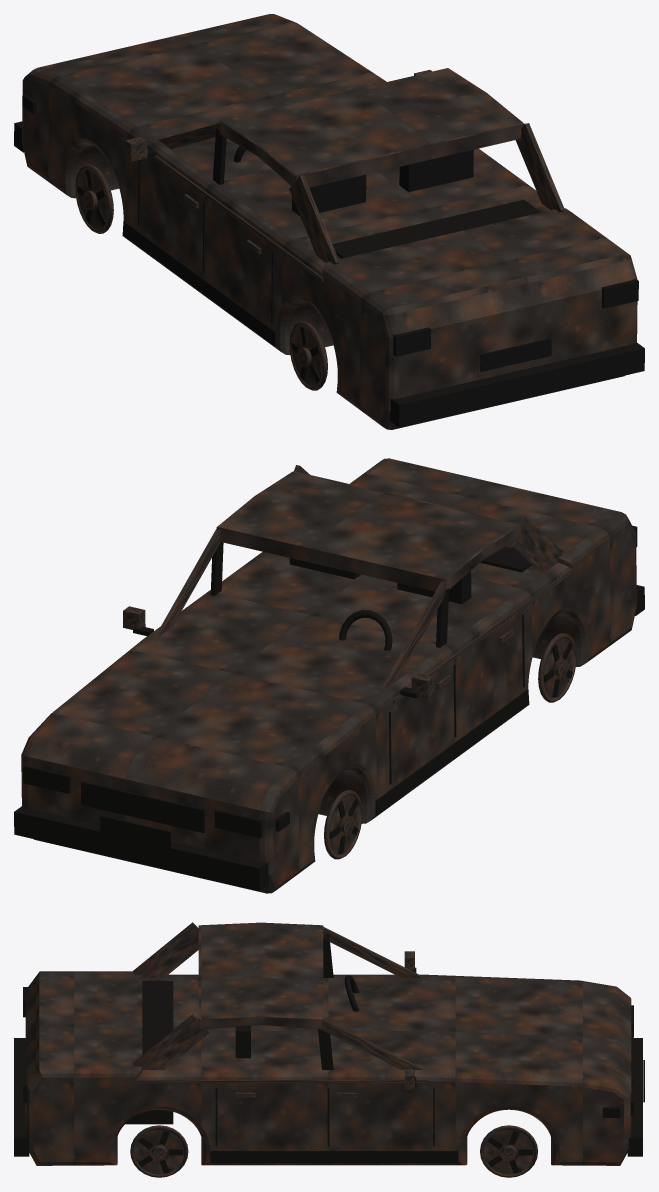
File: car-burnt.glb
The picture shows the model from 3 angles, top to bottom: view 1: azimuth 30°, elevation 25°; view 2: azimuth 150°, elevation 25°; view 3: azimuth 270°, elevation 25°; orthographic projection. The views are drawn at different scales.
Parts seen in each view (by area): view 1: part0, part1; view 2: part0, part1; view 3: part0, part1.
Part boxes in pixels (bbox=[...]): part0: bbox=[22, 14, 637, 429]; part1: bbox=[14, 94, 644, 427]; part0: bbox=[21, 458, 636, 893]; part1: bbox=[14, 525, 644, 891]; part0: bbox=[25, 922, 631, 1177]; part1: bbox=[14, 934, 644, 1173].
Bounding box in the file's own units: 2.26 × 1.4 × 4.96.
2 materials, 1 textured.
